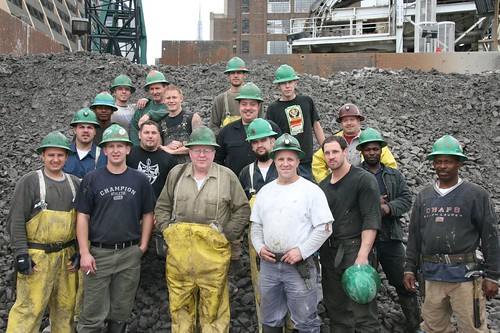person hardhat: (427, 134, 467, 181), (269, 133, 306, 180), (34, 130, 75, 172), (185, 124, 222, 170), (98, 123, 134, 166), (244, 117, 277, 162), (234, 82, 264, 122), (355, 127, 387, 164), (69, 107, 100, 145), (335, 103, 365, 134), (272, 64, 299, 98), (90, 91, 118, 122), (143, 71, 170, 102), (109, 74, 137, 102), (224, 57, 249, 87)
